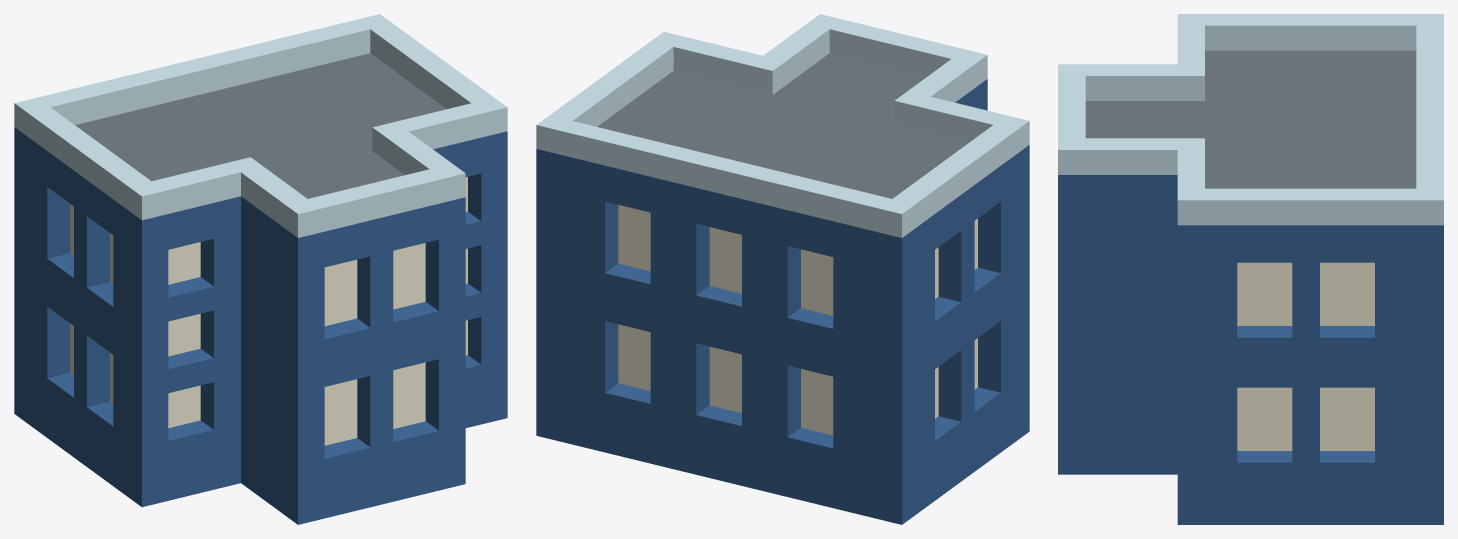
Rendered from Building_12 (Blue).obj.
3 views of the same model, side by side, from view 1: azimuth 30°, elevation 25°; view 2: azimuth 150°, elevation 25°; view 3: azimuth 270°, elevation 25° (orthographic). The views are drawn at different scales.
Visible parts, largest first — view 1: Building_12_(Blue); view 2: Building_12_(Blue); view 3: Building_12_(Blue).
Part boxes in pixels (x1,y1,x2,y2): Building_12_(Blue): [14, 14, 507, 524]; Building_12_(Blue): [536, 14, 1029, 524]; Building_12_(Blue): [1058, 14, 1443, 524].
Size of the model in its own units: 1.6 by 1.3 by 1.4.
